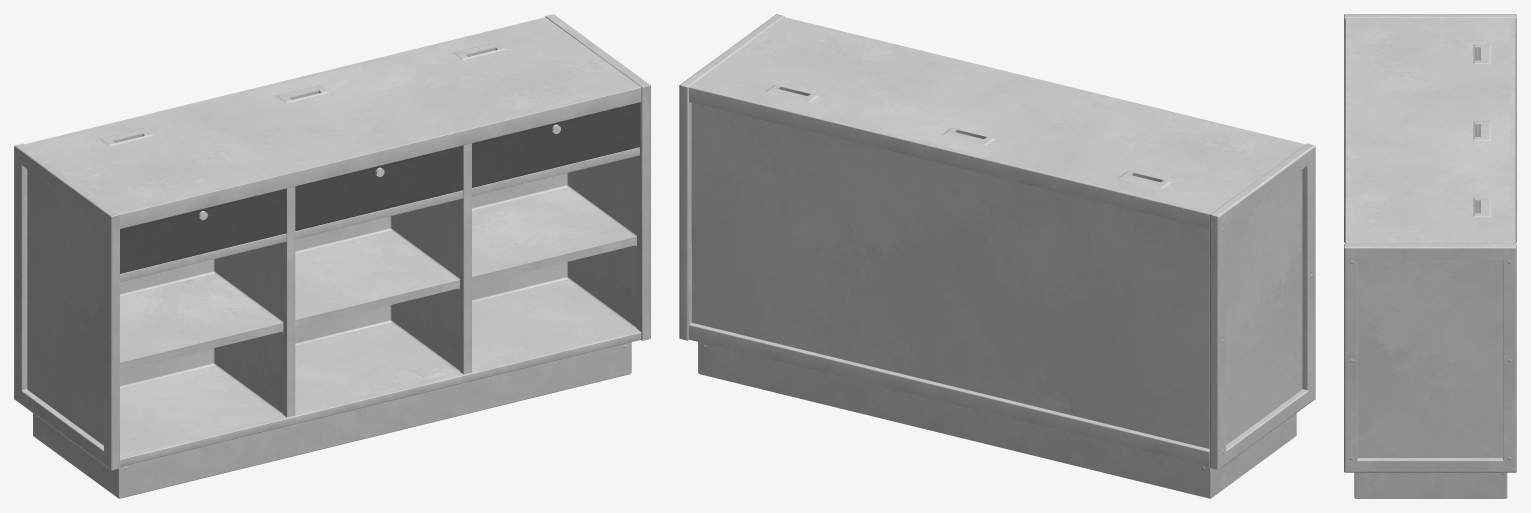
File: SM_Counter_01c.glb
The picture shows the model from 3 angles, left to right: view 1: azimuth 30°, elevation 25°; view 2: azimuth 150°, elevation 25°; view 3: azimuth 270°, elevation 25°; orthographic projection. The views are drawn at different scales.
Parts seen in each view (by area): view 1: SM_Counter_01c; view 2: SM_Counter_01c; view 3: SM_Counter_01c.
Boxes of the visible parts, bbox=[...] form: SM_Counter_01c: bbox=[14, 14, 650, 498]; SM_Counter_01c: bbox=[679, 14, 1315, 498]; SM_Counter_01c: bbox=[1344, 14, 1516, 498].
Bounding box in the file's own units: 1.96 × 1 × 0.6094.
1 material, 1 textured.
